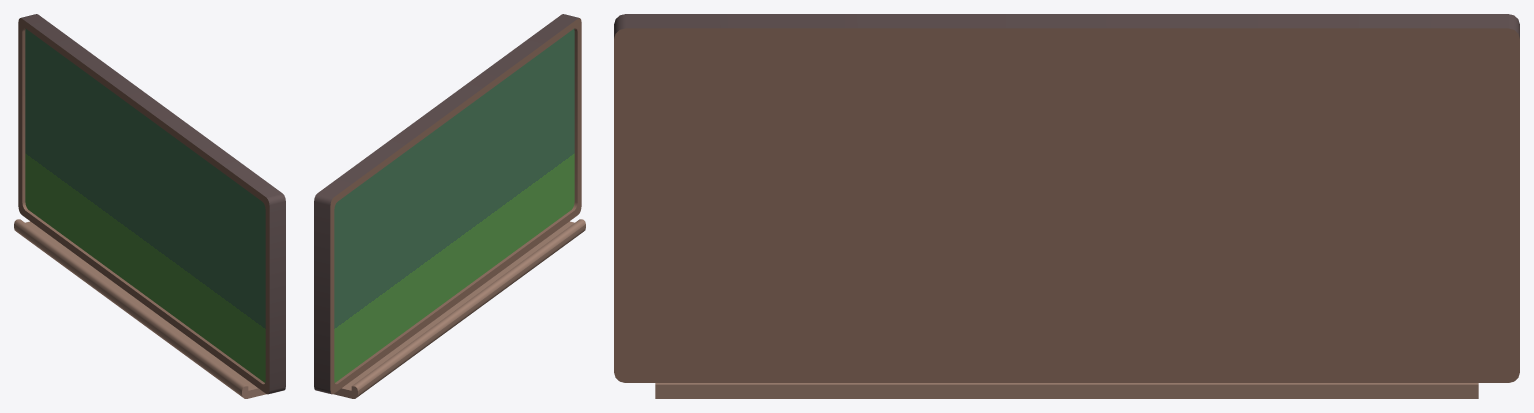
File: pizarron.fbx
3 renders of one model, left to right at view 1: azimuth 30°, elevation 25°; view 2: azimuth 150°, elevation 25°; view 3: azimuth 270°, elevation 25°, orthographic. The views are drawn at different scales.
Visible parts, largest first — view 1: pizarron; view 2: pizarron; view 3: pizarron.
Part boxes in pixels (left/top/right/bottom): pizarron: left=14, top=14, right=285, bottom=398; pizarron: left=314, top=14, right=585, bottom=398; pizarron: left=614, top=14, right=1519, bottom=398.
Bounding box in the file's own units: 74.69 × 439 × 976.
